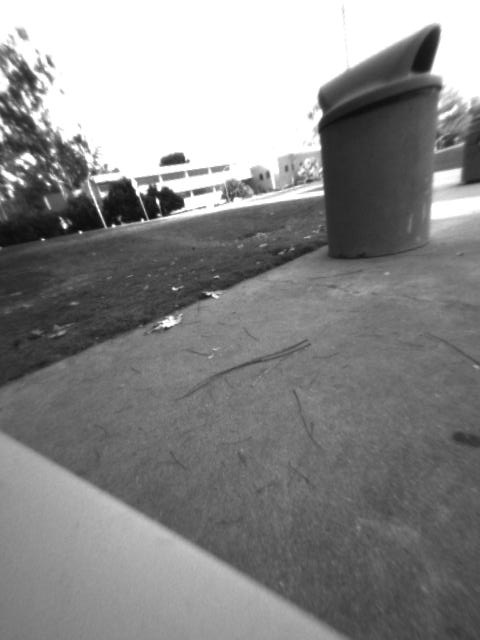trashcan: (316, 20, 444, 255)
